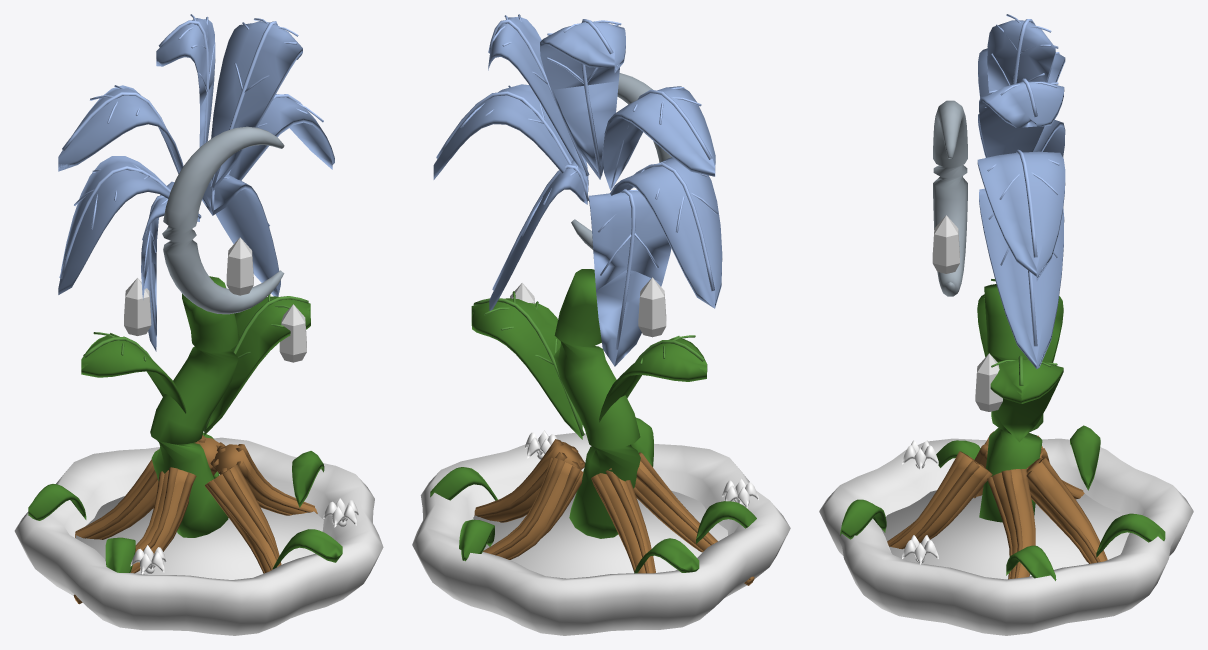
Rendered from moonflower-2.fbx.
3 views of the same model, side by side, from view 1: azimuth 30°, elevation 25°; view 2: azimuth 150°, elevation 25°; view 3: azimuth 270°, elevation 25° (orthographic). The views are drawn at different scales.
Parts seen in each view (by area): view 1: CarvedBasin, Petals_Petal, Turret_PortalBamboo, moonflower-2_Bark, SilverCrescent, WaterSurface, moonflower-2_PortalBamboo, Turret_Glow, moonflower-2_Petal; view 2: Petals_Petal, CarvedBasin, Turret_PortalBamboo, moonflower-2_Bark, WaterSurface, moonflower-2_PortalBamboo, Turret_Glow, moonflower-2_Petal, SilverCrescent; view 3: CarvedBasin, Petals_Petal, moonflower-2_Bark, Turret_PortalBamboo, WaterSurface, moonflower-2_PortalBamboo, SilverCrescent, Turret_Glow, moonflower-2_Petal.
Boxes of the visible parts, x1,y1,x2,y2 form: CarvedBasin: (14,437,383,635); Petals_Petal: (58,14,334,351); Turret_PortalBamboo: (81,276,310,537); moonflower-2_Bark: (73,435,317,604); SilverCrescent: (162,126,284,314); WaterSurface: (75,496,323,579); moonflower-2_PortalBamboo: (28,432,342,572); Turret_Glow: (124,237,306,362); moonflower-2_Petal: (130,498,358,574); Petals_Petal: (433,14,722,366); CarvedBasin: (412,432,790,635); Turret_PortalBamboo: (471,269,707,538); moonflower-2_Bark: (474,439,754,585); WaterSurface: (473,490,727,578); moonflower-2_PortalBamboo: (430,417,756,573); Turret_Glow: (510,277,666,337); moonflower-2_Petal: (525,430,758,508); SilverCrescent: (571,73,671,249); CarvedBasin: (819,438,1193,635); Petals_Petal: (977,14,1065,368); moonflower-2_Bark: (887,431,1107,579); Turret_PortalBamboo: (977,279,1063,522); WaterSurface: (881,490,1129,579); moonflower-2_PortalBamboo: (840,425,1165,580); SilverCrescent: (933,100,967,296); Turret_Glow: (932,215,1002,411); moonflower-2_Petal: (902,440,938,564).
Bounding box in the file's own units: 85.55 × 141 × 87.03.
